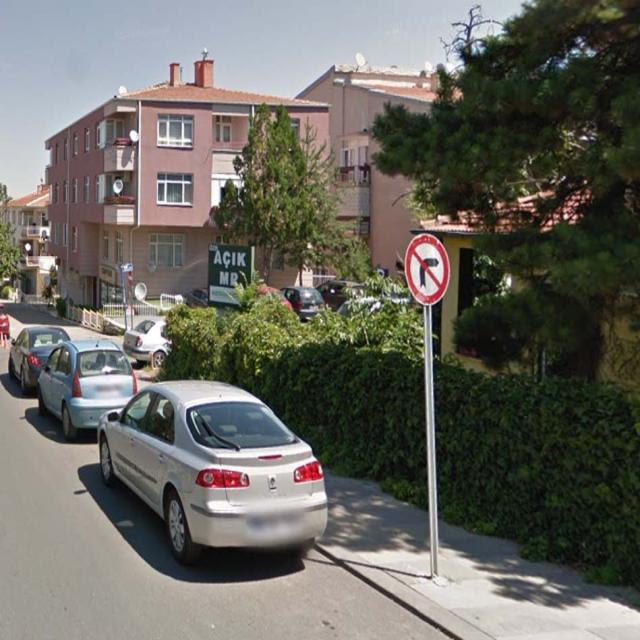sagadonulmez: (407, 235, 448, 305)
